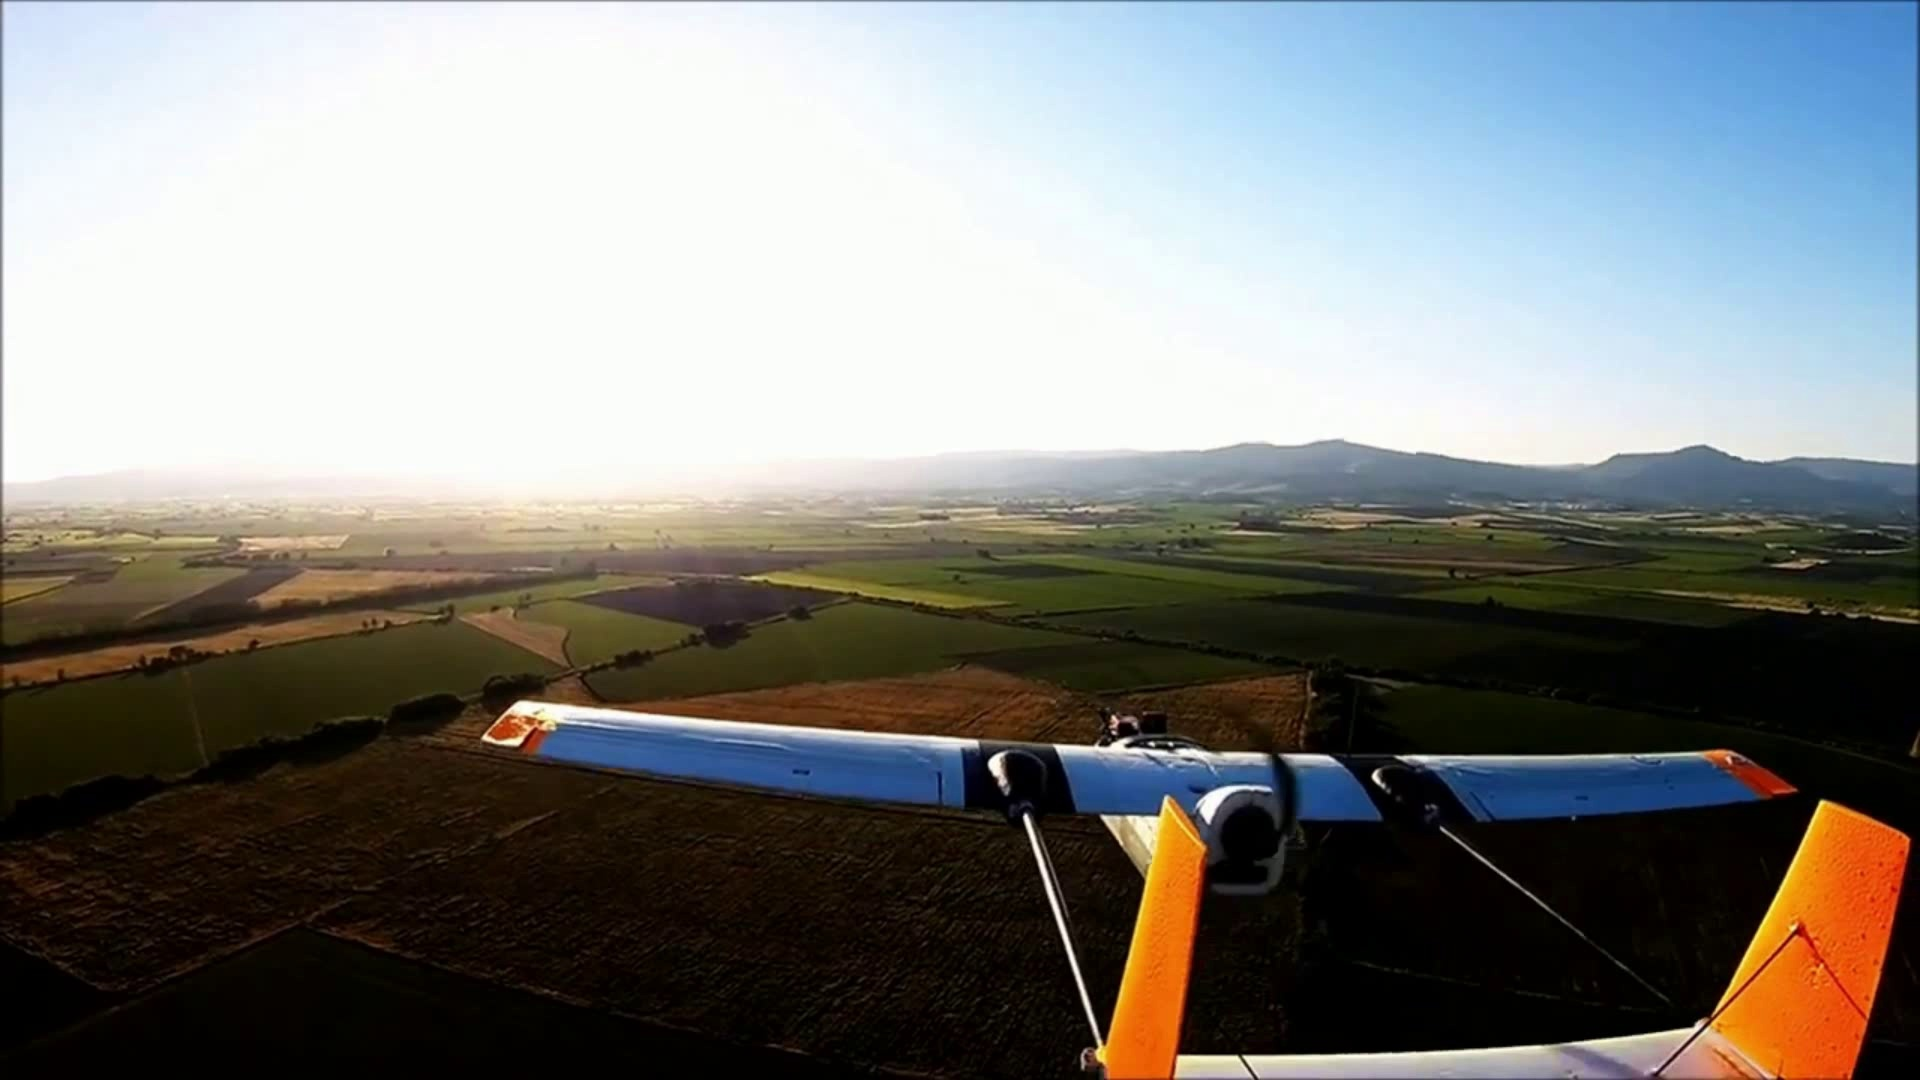airplane: (473, 709, 1916, 1068)
